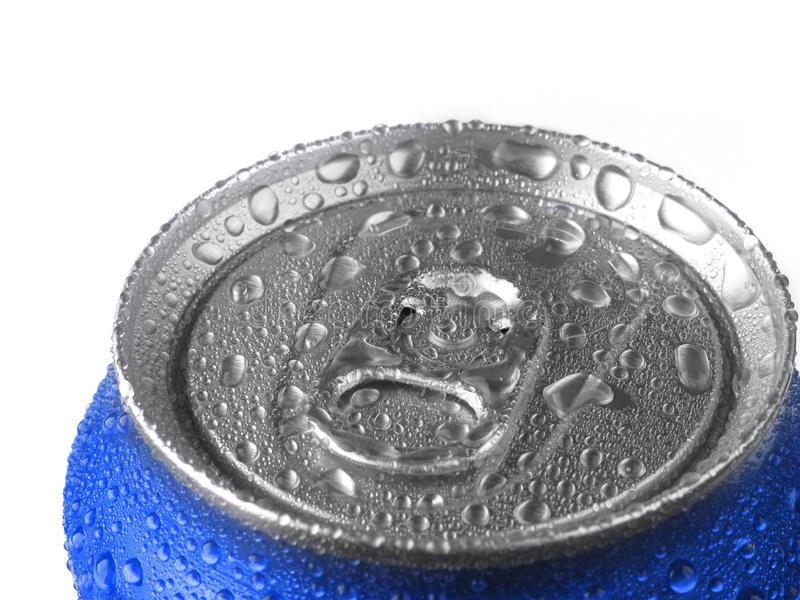can: (67, 111, 797, 600)
